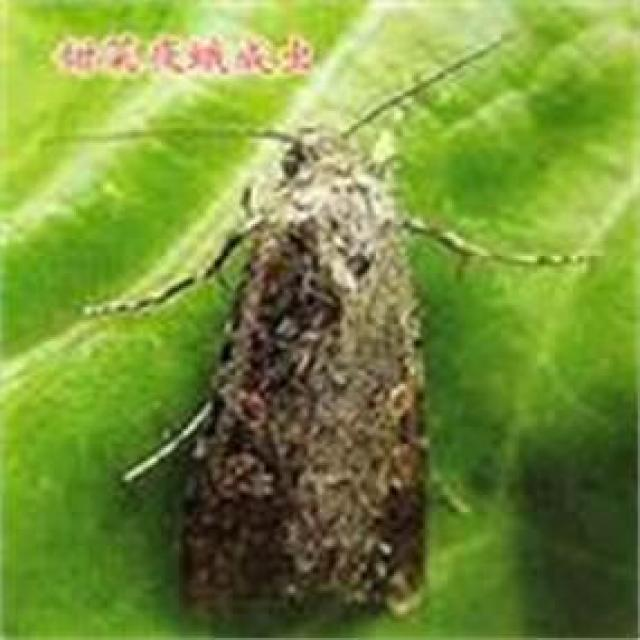BeetArmyWorm-Adult-: (61, 72, 566, 622)
